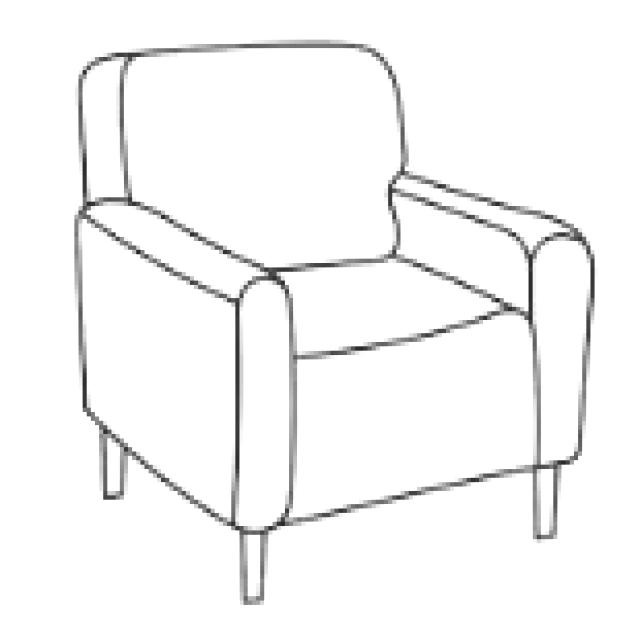Armrest: (75, 196, 295, 536), (389, 170, 597, 467)
Backrest: (77, 44, 406, 266)
Leg_Structure: (96, 417, 563, 607)
Seat: (266, 251, 538, 526)
